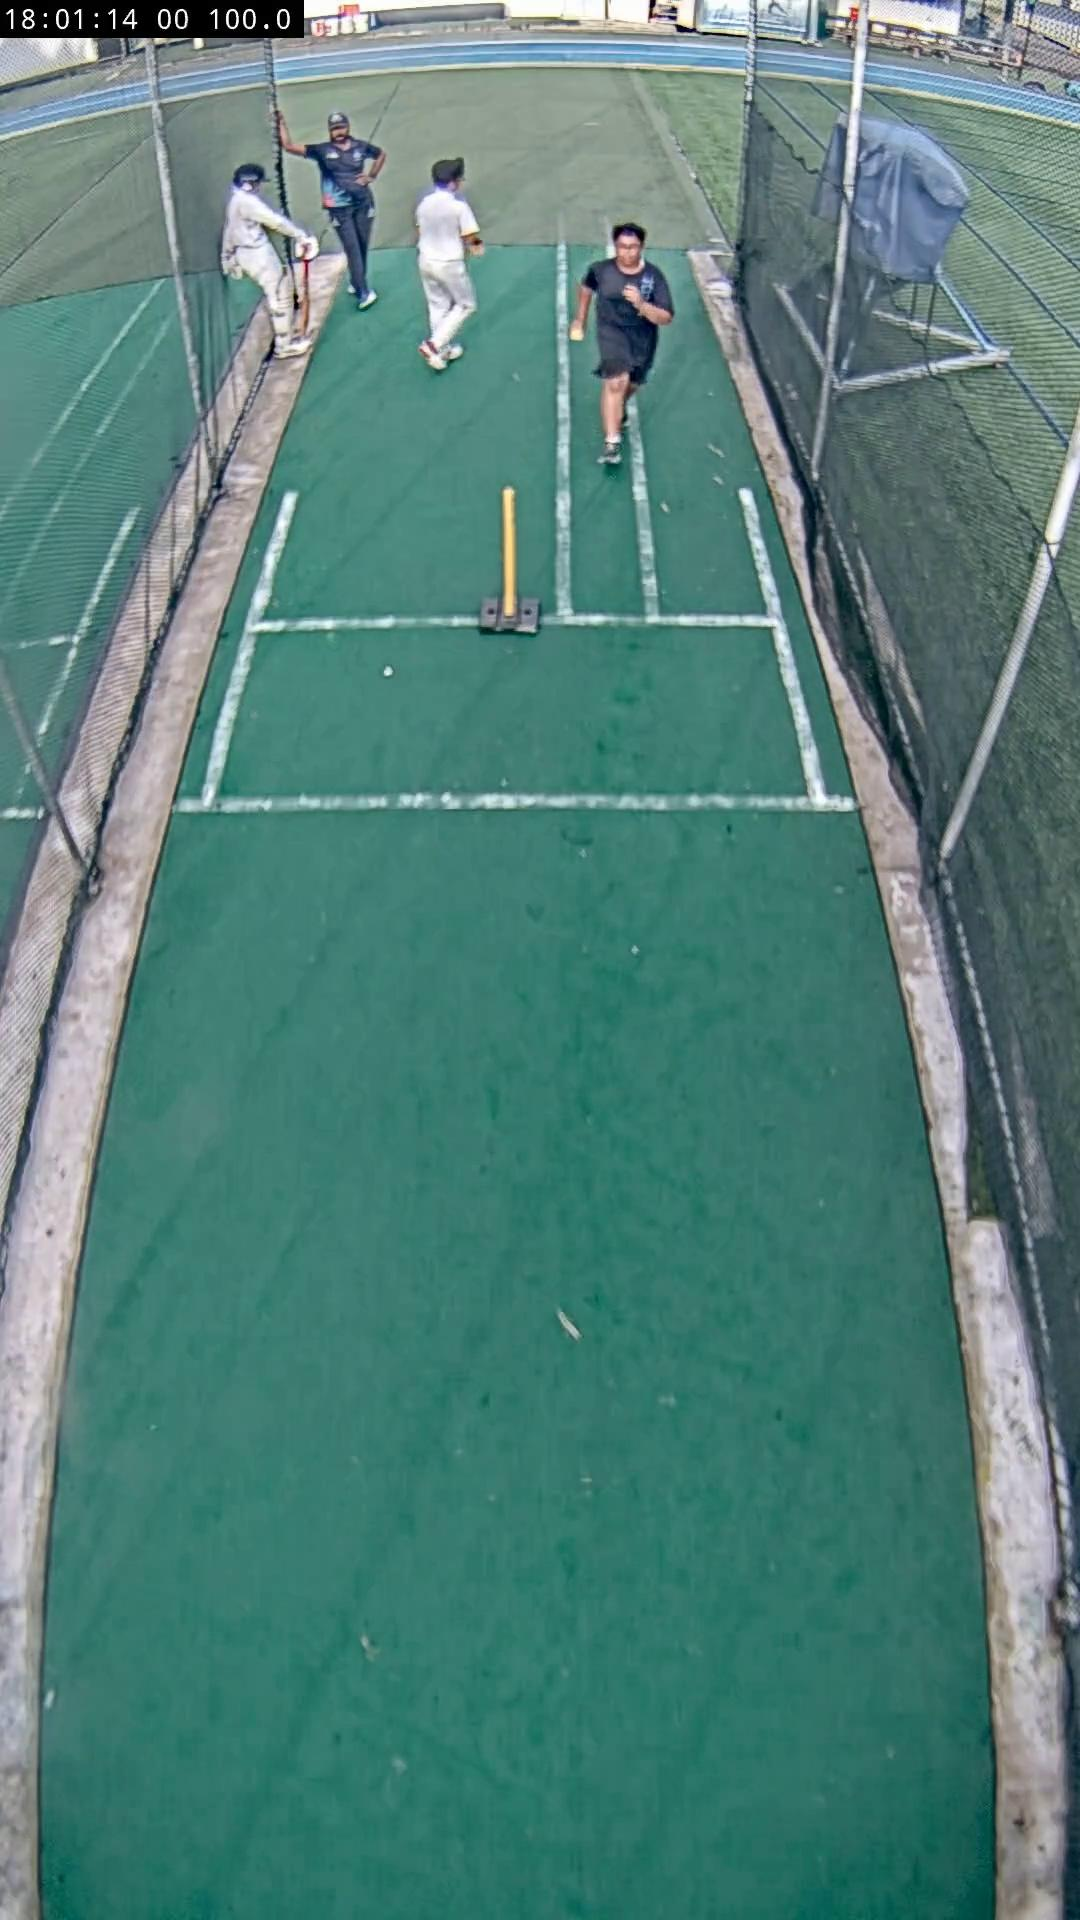ball: (570, 323, 585, 339)
stumps: (480, 488, 541, 634)
